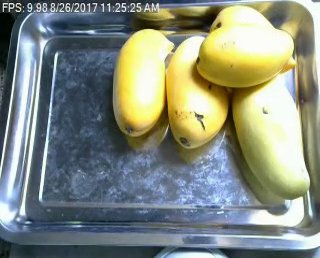Mango: (233, 73, 310, 200), (167, 33, 230, 147), (113, 29, 172, 136), (211, 5, 298, 74), (197, 26, 292, 87)
